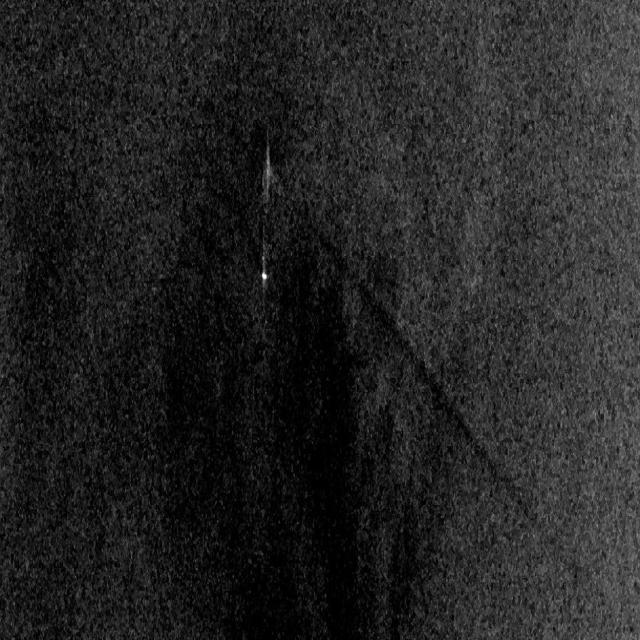look-alike: (122, 272, 244, 640)
oil-spill: (292, 189, 554, 542)
ship: (257, 138, 281, 208), (256, 242, 273, 292)
